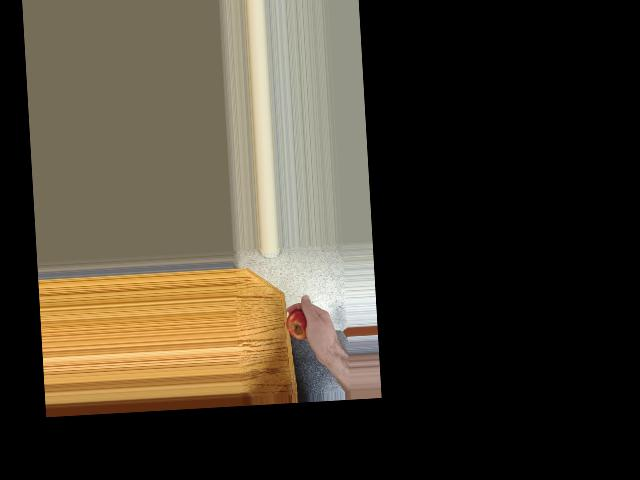apple: (286, 309, 316, 341)
